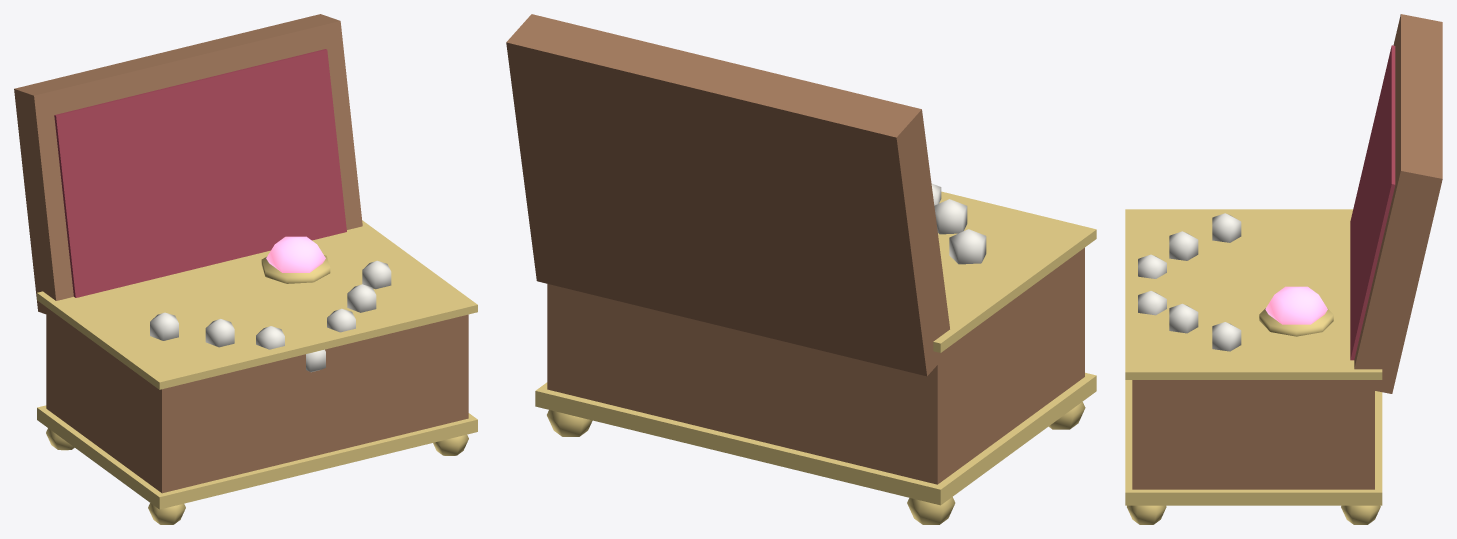
The model's file is scrap_jewellery_box.fbx.
3 views of the same model, side by side, from view 1: azimuth 30°, elevation 25°; view 2: azimuth 150°, elevation 25°; view 3: azimuth 270°, elevation 25° (orthographic). The views are drawn at different scales.
Parts seen in each view (by area): view 1: scrap_jewellery_box; view 2: scrap_jewellery_box; view 3: scrap_jewellery_box.
Part boxes in pixels (x1,y1,x2,y2): scrap_jewellery_box: [14, 14, 477, 524]; scrap_jewellery_box: [506, 14, 1096, 524]; scrap_jewellery_box: [1125, 14, 1442, 524].
Size of the model in its own units: 0.27 by 0.2783 by 0.2223.
